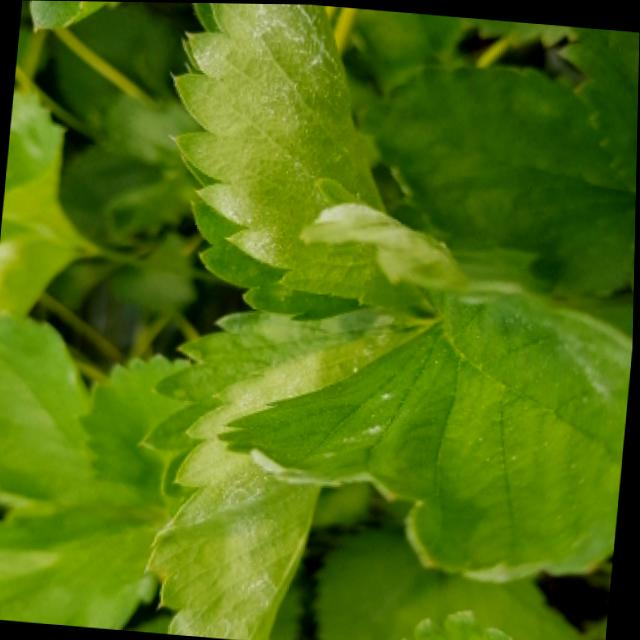Powdery Mildew Leaf: (216, 201, 634, 583), (136, 308, 428, 640), (167, 2, 432, 320), (1, 91, 104, 254)
